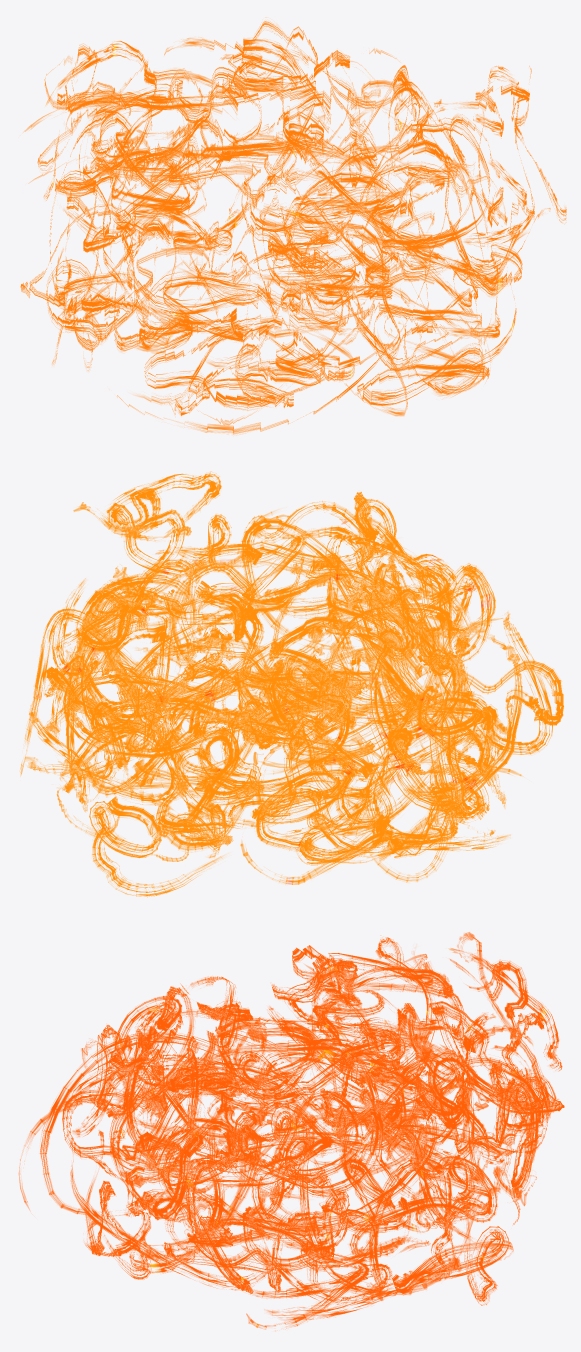
The model's file is mesh.mobile.glb.
The picture shows the model from 3 angles, top to bottom: view 1: azimuth 30°, elevation 25°; view 2: azimuth 150°, elevation 25°; view 3: azimuth 270°, elevation 25°; orthographic projection. The views are drawn at different scales.
Visible parts, largest first — view 1: Mesh Renderer; view 2: Mesh Renderer; view 3: Mesh Renderer.
Boxes of the visible parts, left/top/right/bottom form: Mesh Renderer: left=20, top=17, right=566, bottom=434; Mesh Renderer: left=20, top=471, right=563, bottom=897; Mesh Renderer: left=18, top=932, right=564, bottom=1329.
Size of the model in its own units: 2.73 by 1.7 by 2.84.
Materials: 1 (1 with a texture image).
